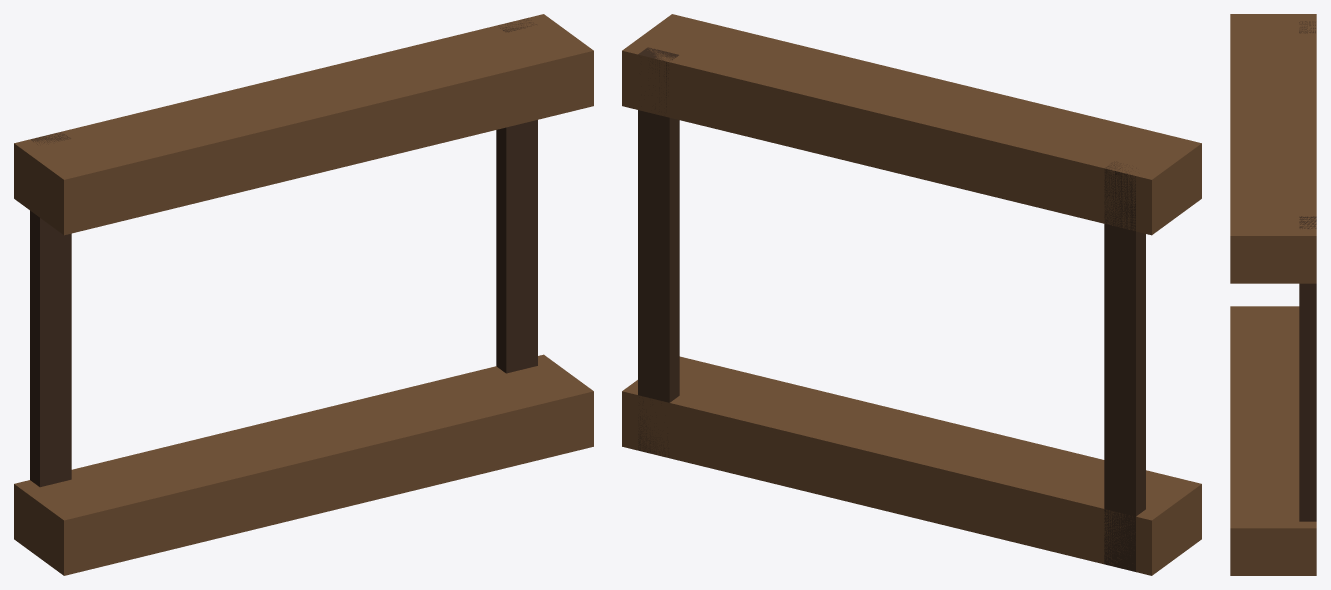
Rendered from SM_Wood_Shelf_A.glb.
3 renders of one model, left to right at view 1: azimuth 30°, elevation 25°; view 2: azimuth 150°, elevation 25°; view 3: azimuth 270°, elevation 25°, orthographic. The views are drawn at different scales.
Parts seen in each view (by area): view 1: SM_Wood_Shelf_A; view 2: SM_Wood_Shelf_A; view 3: SM_Wood_Shelf_A.
Part boxes in pixels (<box>): SM_Wood_Shelf_A: <box>14,14,593,575</box>; SM_Wood_Shelf_A: <box>622,14,1201,575</box>; SM_Wood_Shelf_A: <box>1230,14,1316,575</box>.
Size of the model in its own units: 1.05 by 0.75 by 0.172.
Materials: 1 (1 with a texture image).
